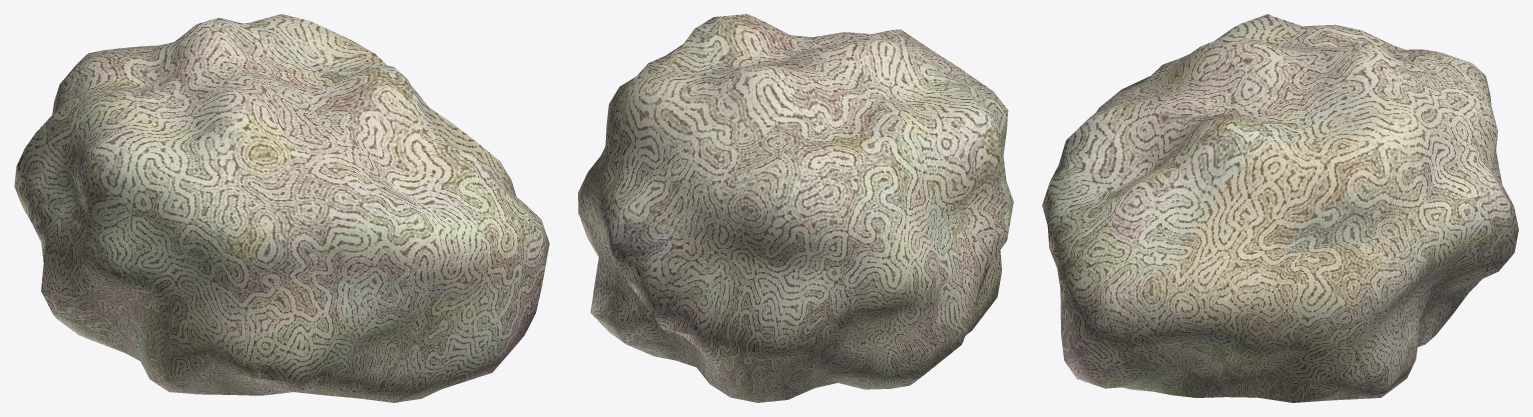
Rendered from 13-BLDBrain.fbx.
The picture shows the model from 3 angles, left to right: view 1: azimuth 30°, elevation 25°; view 2: azimuth 150°, elevation 25°; view 3: azimuth 270°, elevation 25°; orthographic projection. The views are drawn at different scales.
Visible parts, largest first — view 1: 13-BLDBrain_LOD00; view 2: 13-BLDBrain_LOD00; view 3: 13-BLDBrain_LOD00.
Boxes of the visible parts, x1=… form: 13-BLDBrain_LOD00: x1=14, y1=14, x2=549, y2=402; 13-BLDBrain_LOD00: x1=578, y1=14, x2=1013, y2=402; 13-BLDBrain_LOD00: x1=1042, y1=14, x2=1518, y2=402.
Size of what is drawn, in the model's own units: 188 by 134 by 196.
